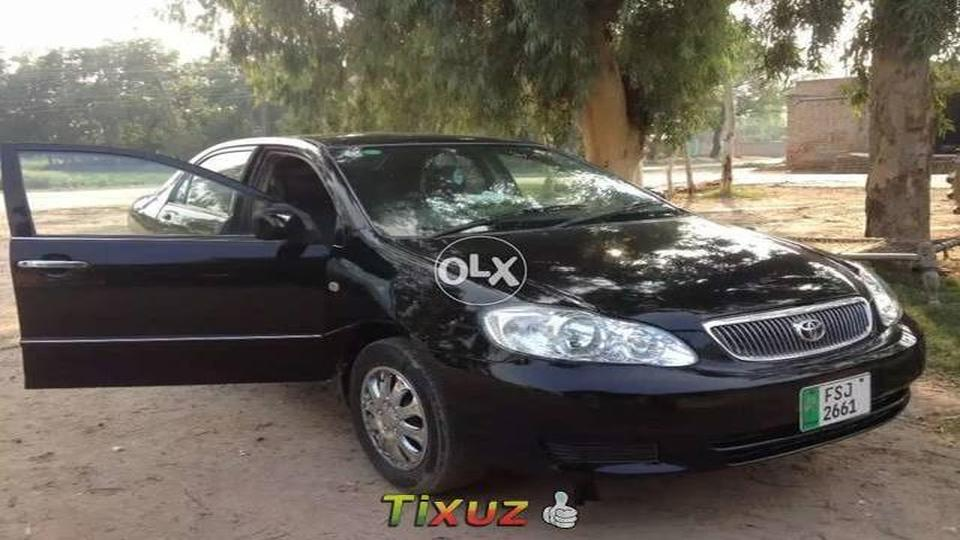NumberPlate: (792, 378, 884, 434)
